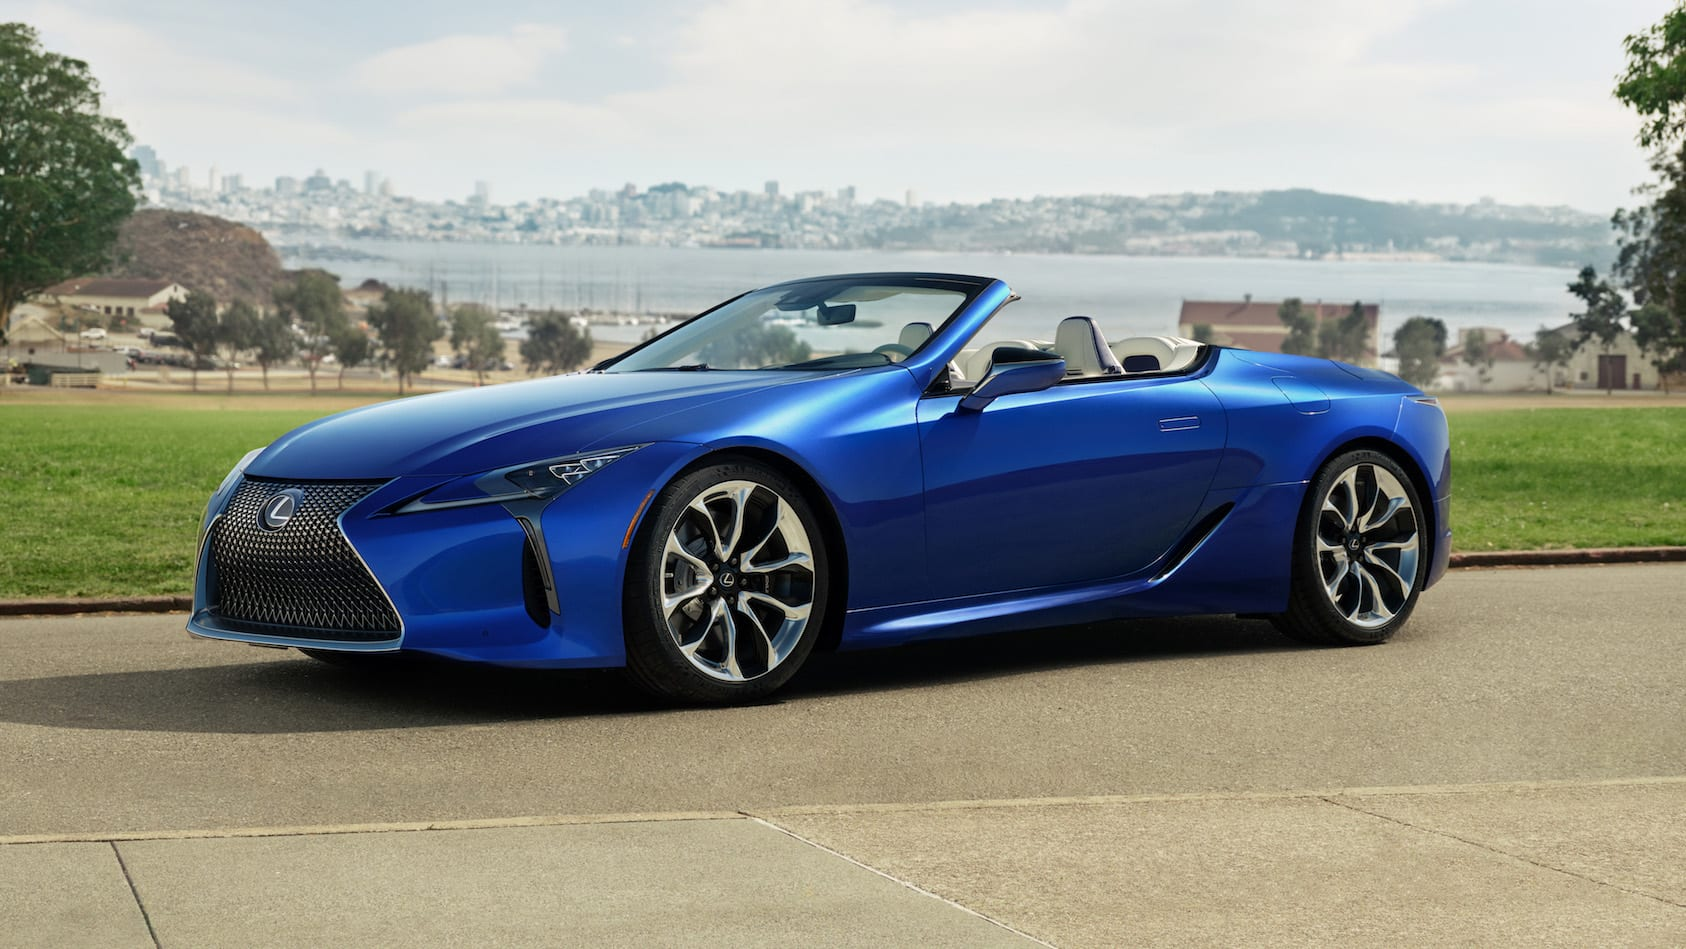car: (182, 270, 1450, 709)
